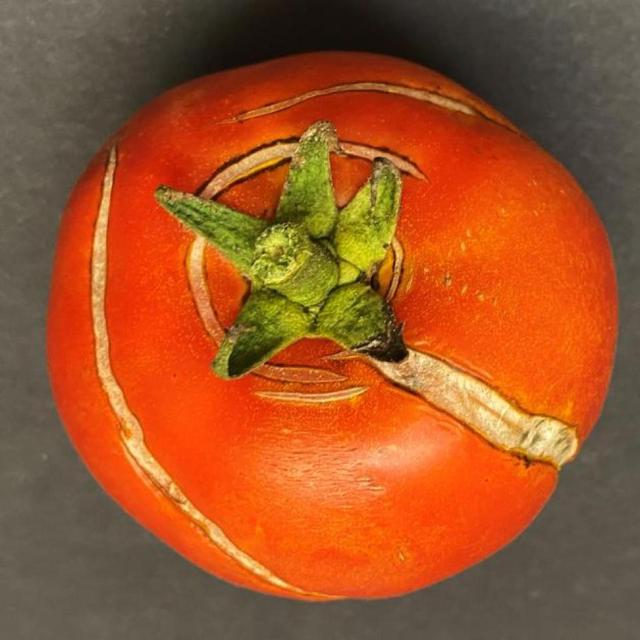Cracking Fruit: (117, 28, 309, 303)
